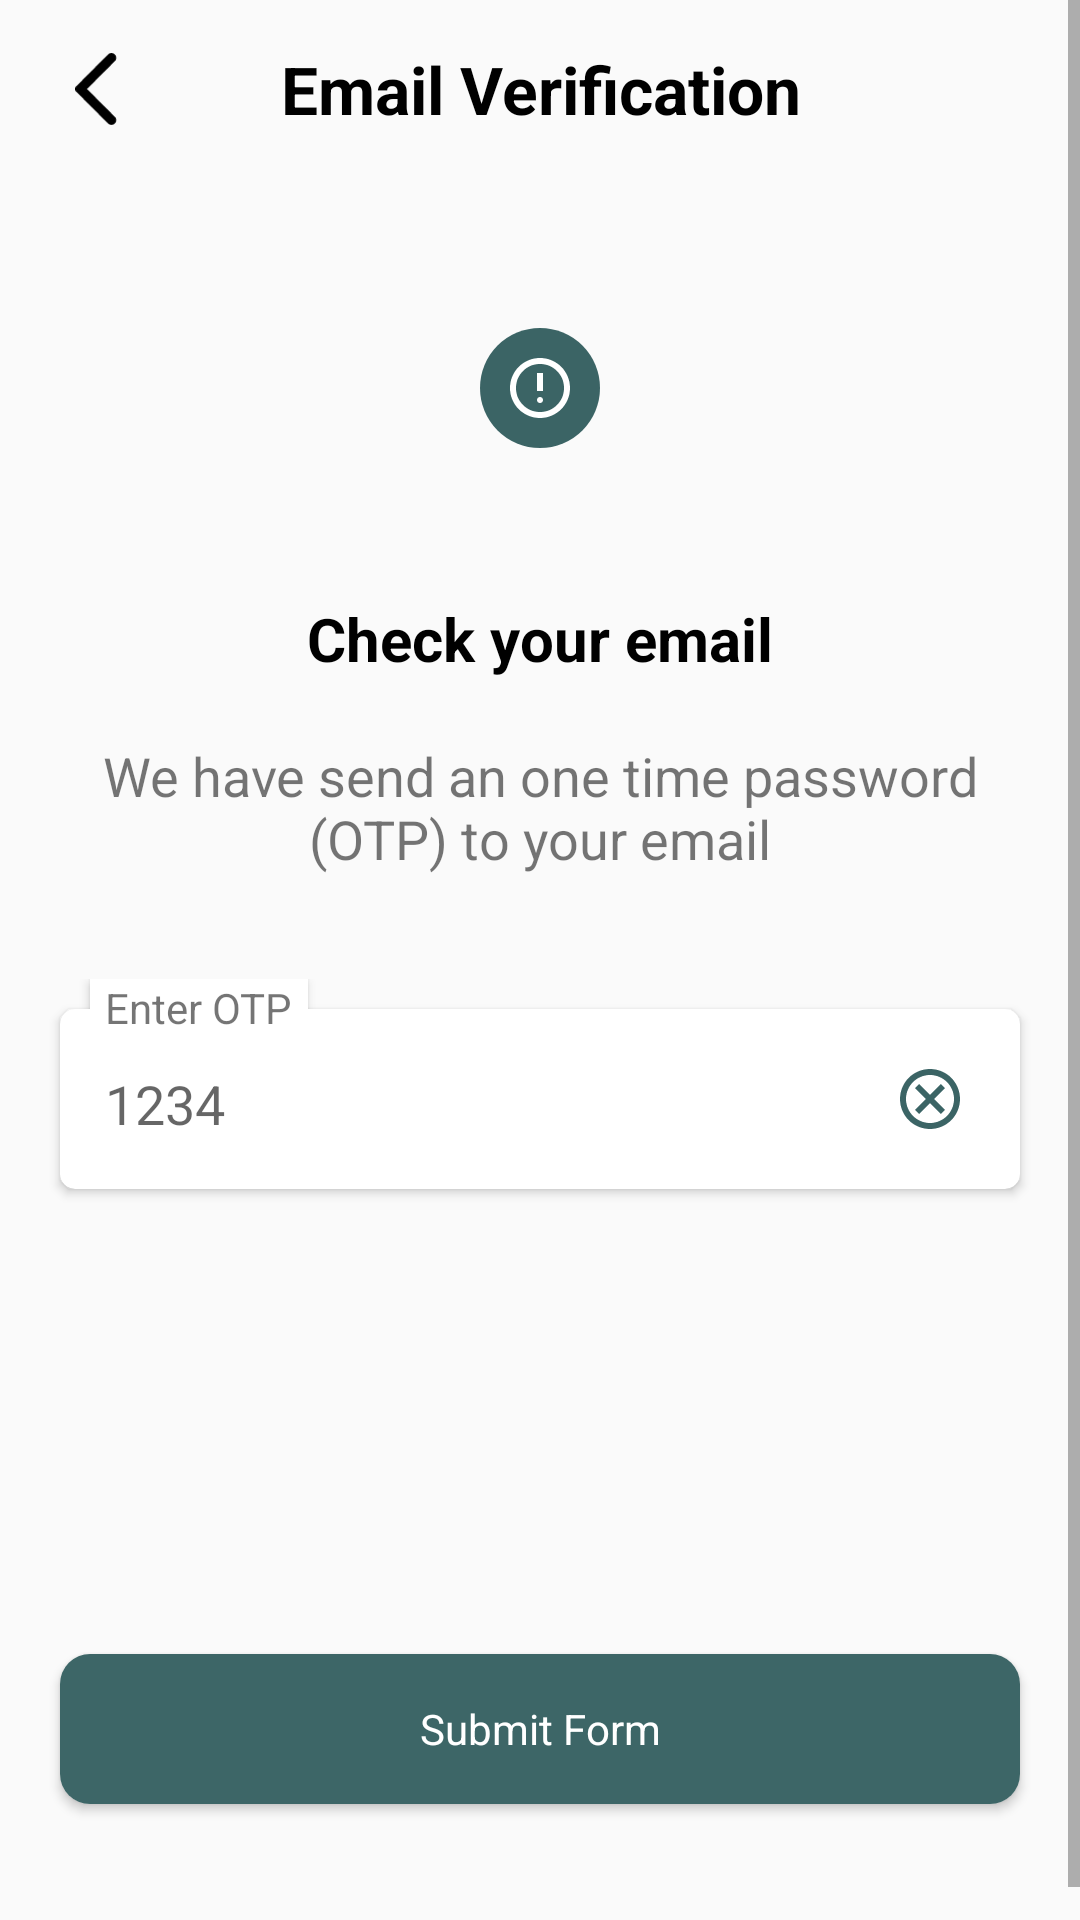

Screen size 1080px x 1920px. Icon name, then its center in pixels as point (x, y):
alert: point (540, 388)
back: point (96, 89)
cross: point (930, 1099)
